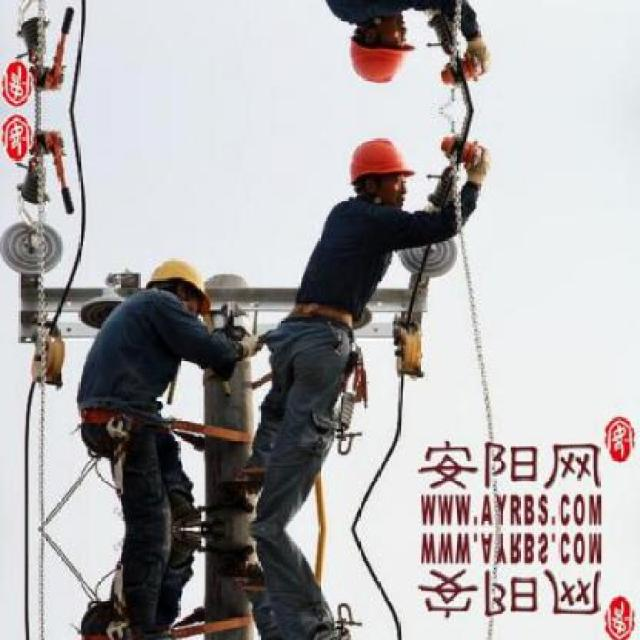helmet: (340, 128, 420, 207), (340, 12, 420, 90), (143, 248, 211, 321)
